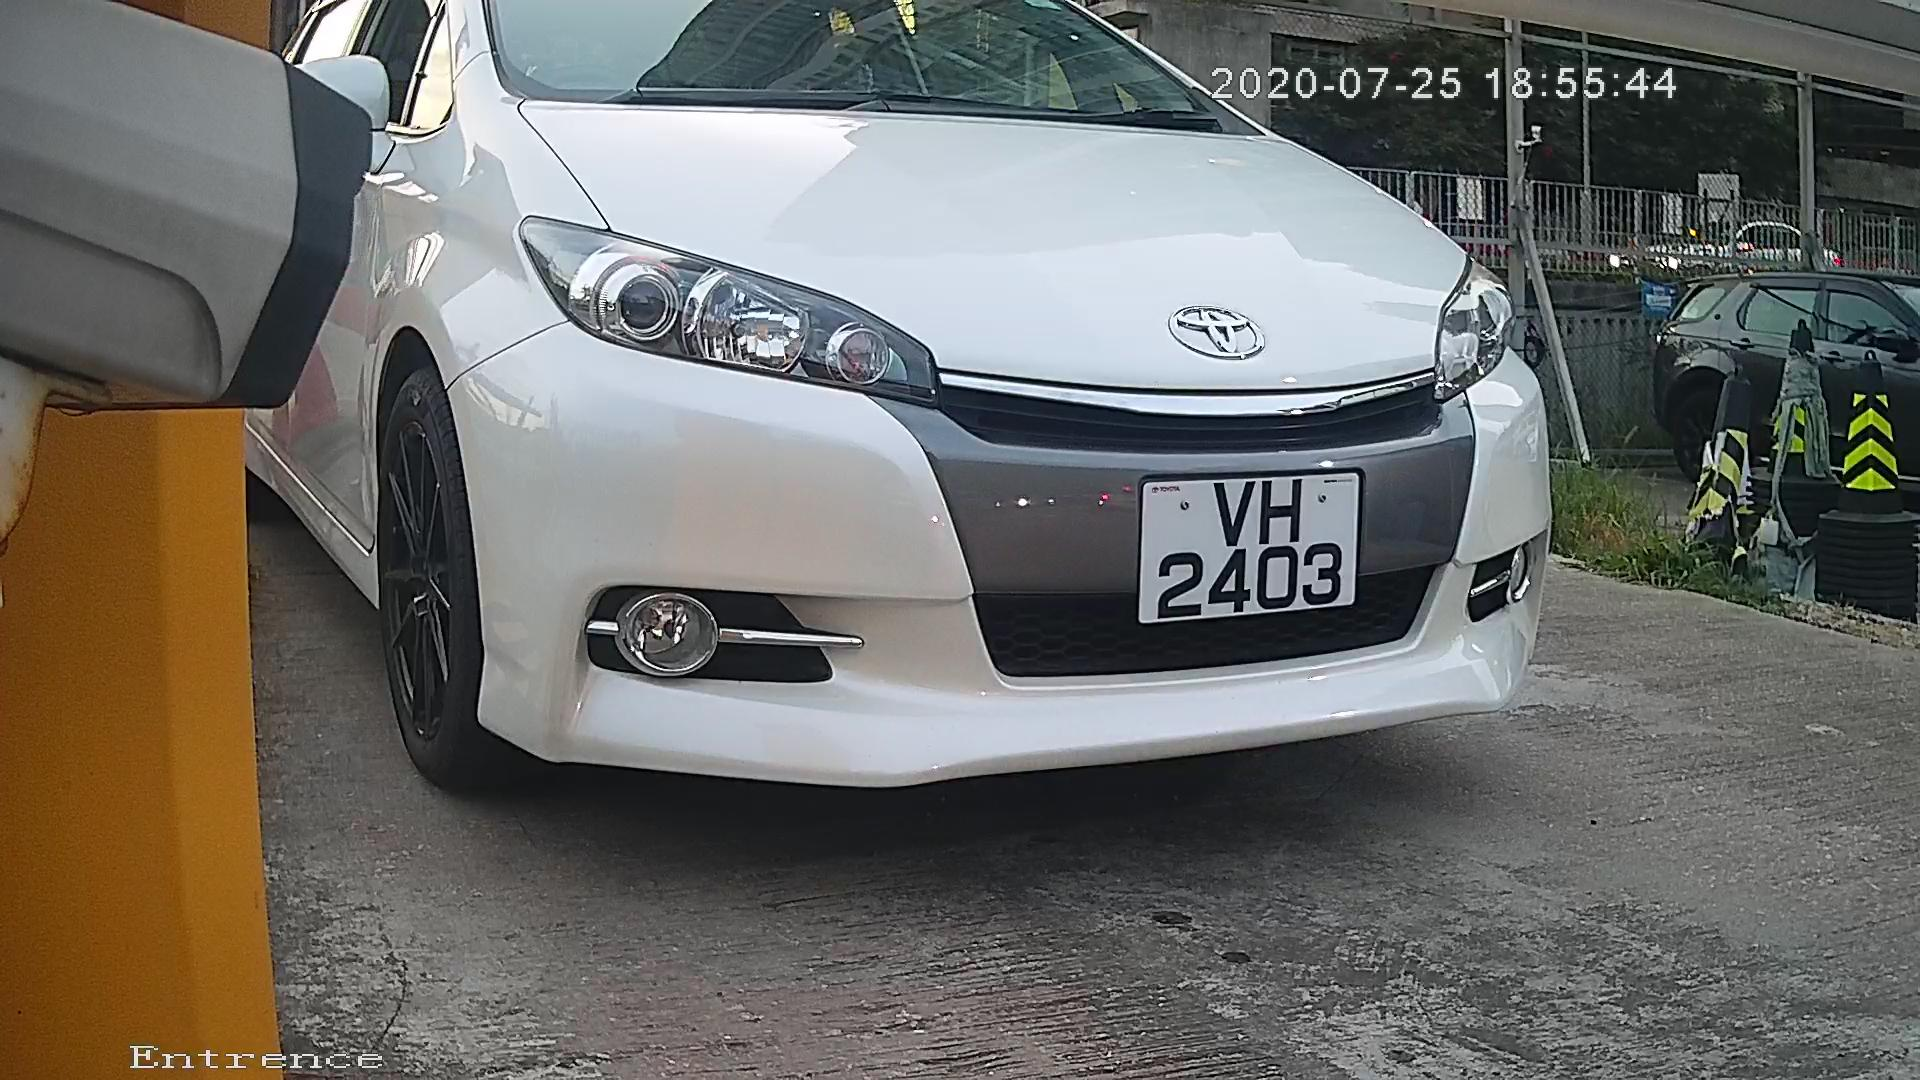Car: (138, 1, 1663, 859)
License Plate: (1123, 444, 1372, 647)
